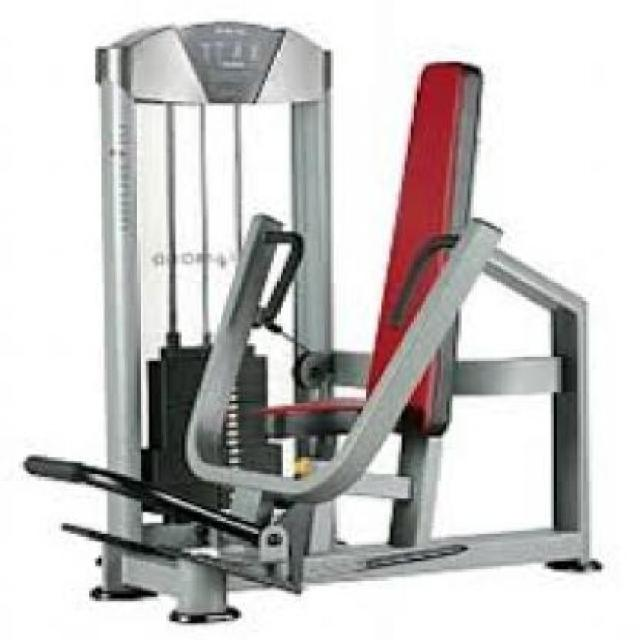Chest Press machine: (25, 18, 608, 624)
